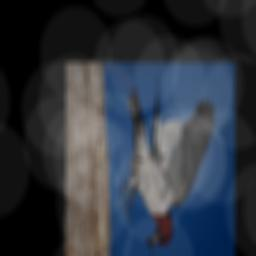Woodpecker: (120, 75, 215, 252)
